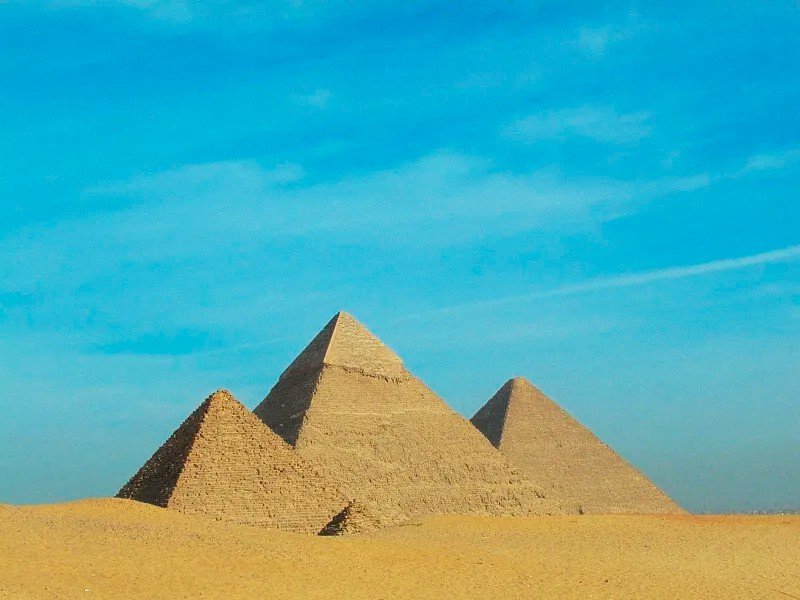Pyramid: (251, 311, 567, 518), (114, 387, 347, 531), (470, 378, 692, 518)
